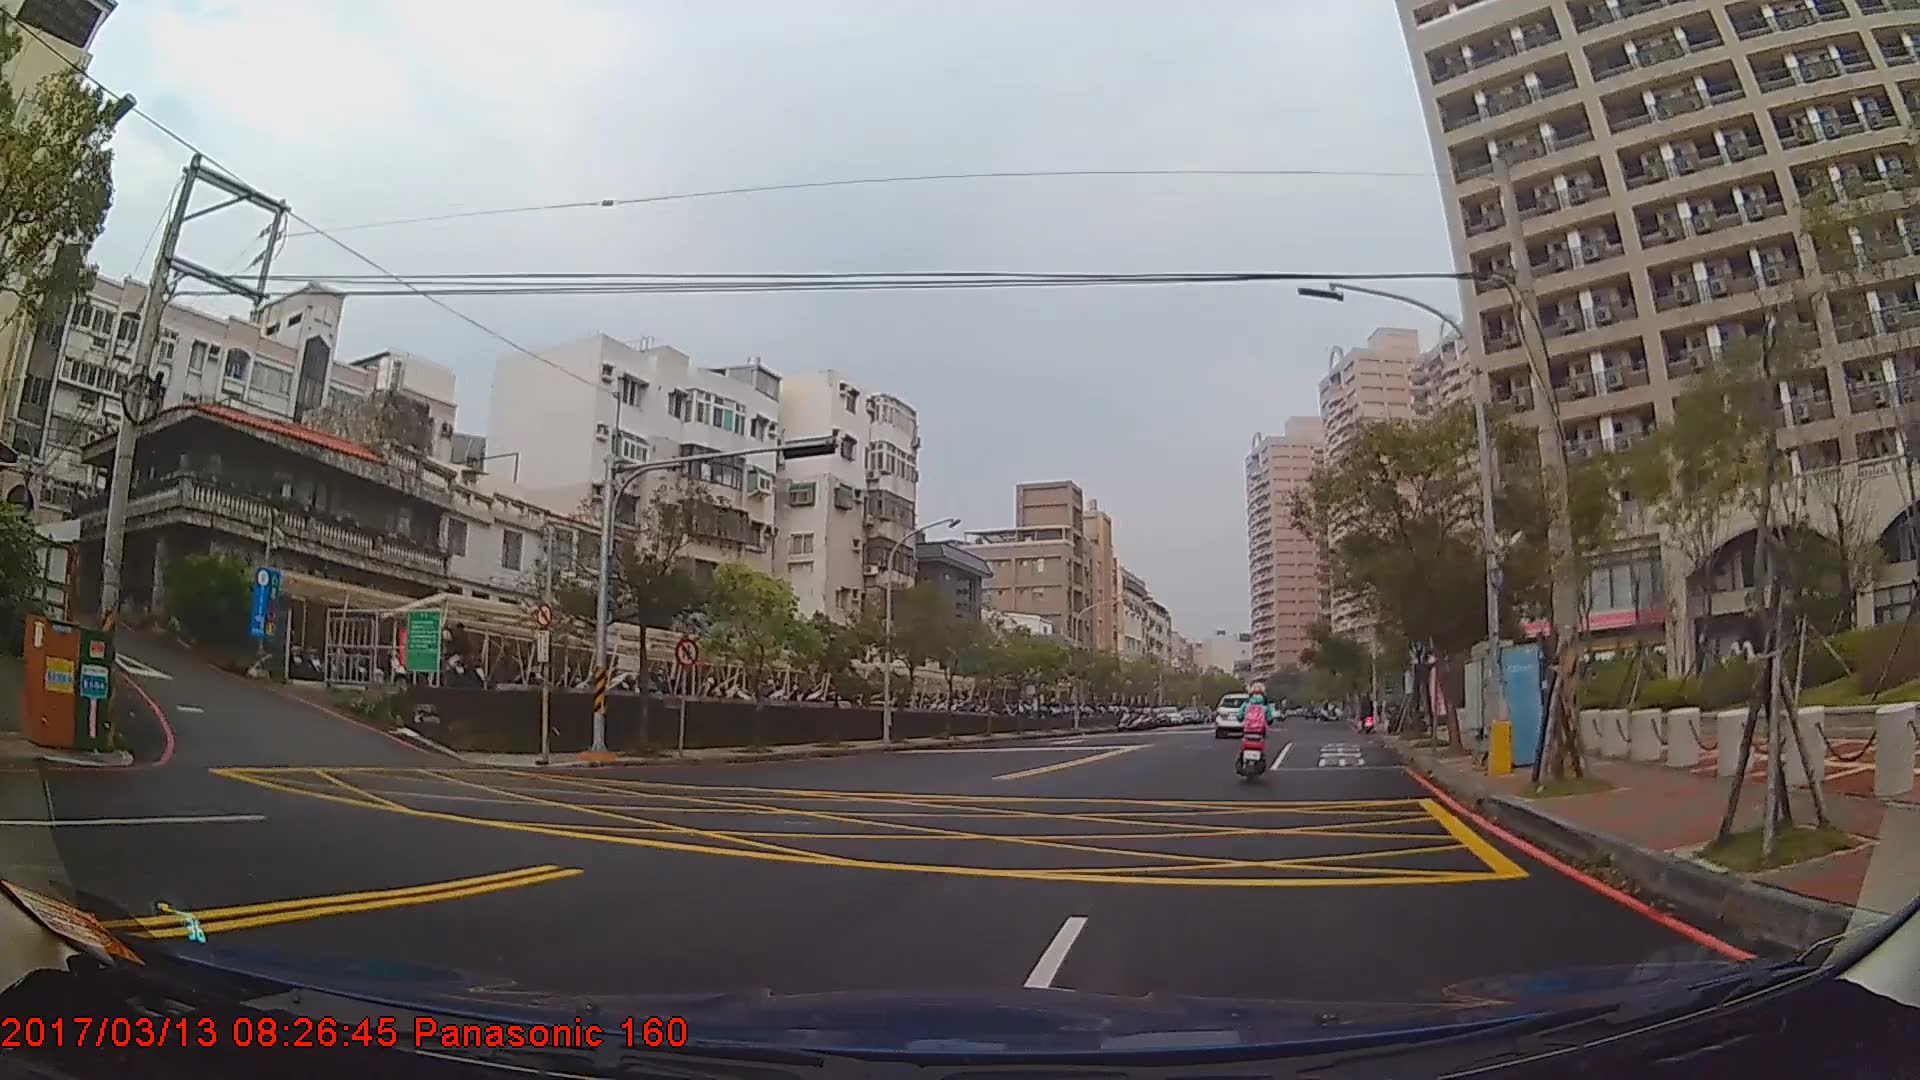rider: (1233, 680, 1279, 781)
vehicle: (1210, 690, 1260, 737)
